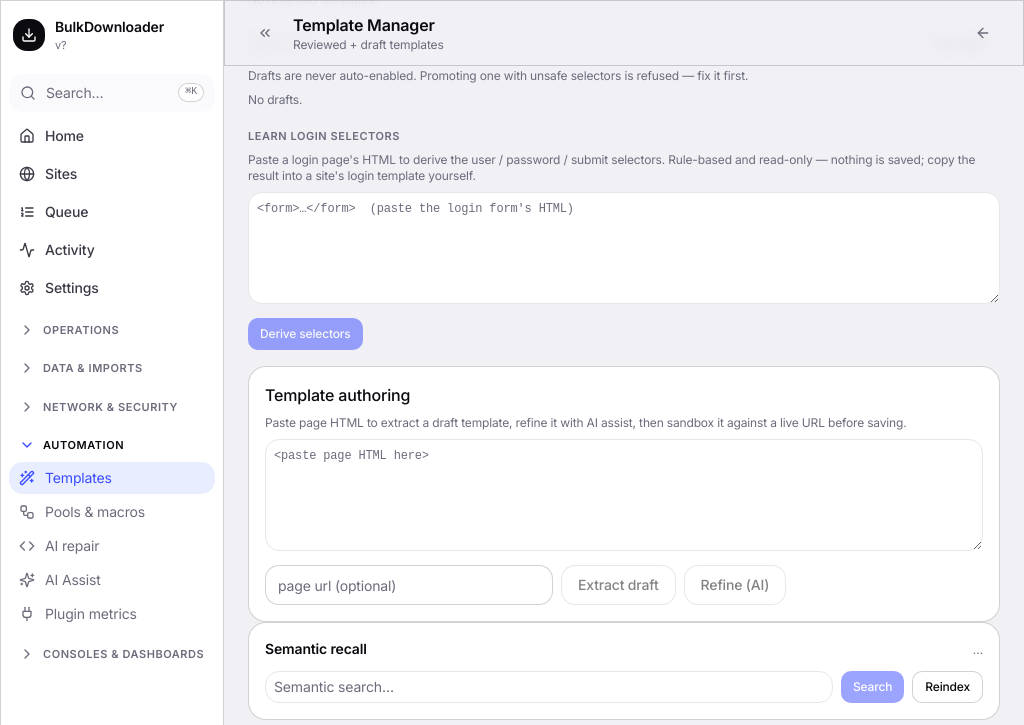
F017 TemplateManager draft create / edit / delete › shows the extracted draft and saves it as a draft
(page scrolled)
Expected: the heading "Drafts (0)" is shown, [248,35,316,52]
Type "<a class=\"dl\" href=\"/dl/x_1080.mp4\">x</a>" into the text box labelled "page HTML".
click(624, 495); type("<a class=\"dl\" href=\"/dl/x_1080.mp4\">x</a>")  # box [265,439,983,551]
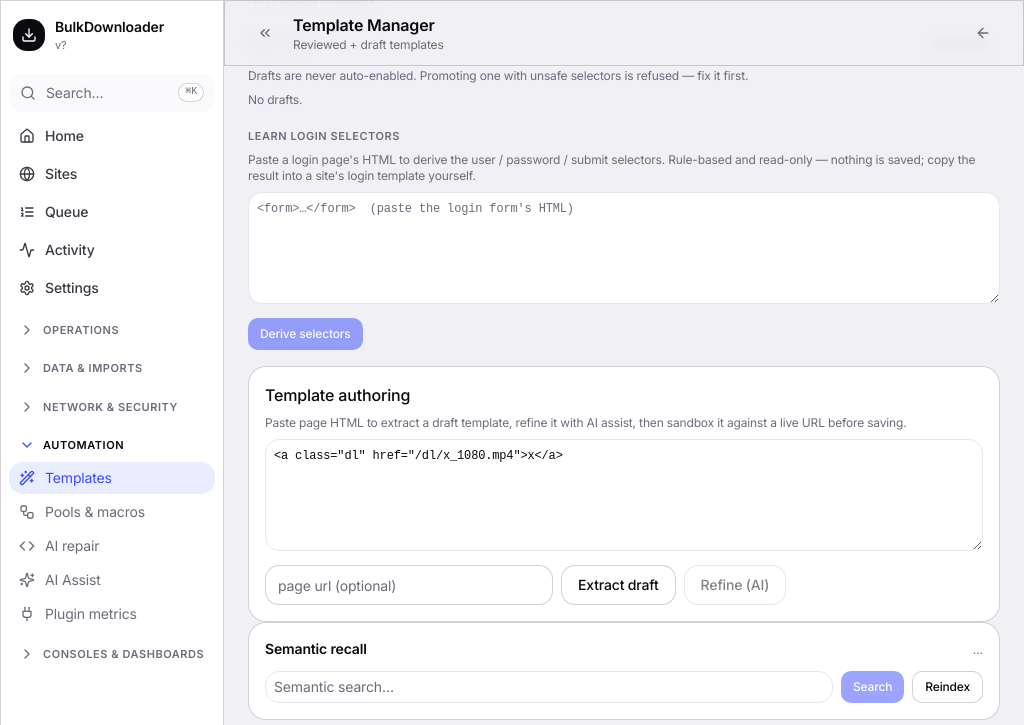
Type "https://test.example.com/g" into the field labelled "page url".
click(409, 585); type("https://test.example.com/g")  # box [265,565,553,605]
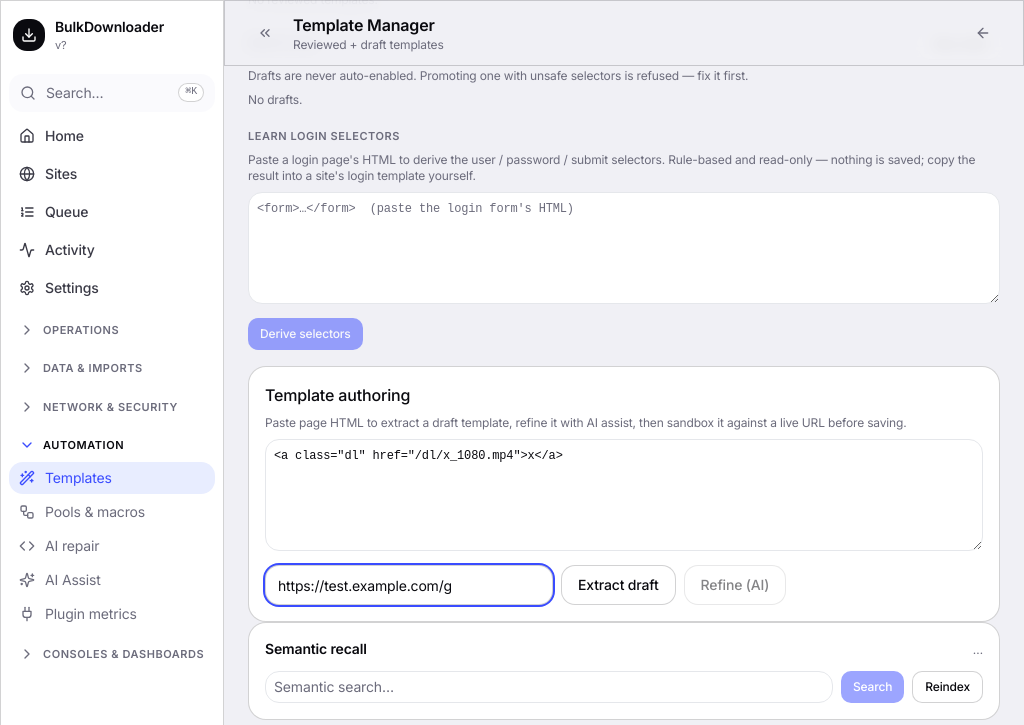
Click the button "Extract draft".
click(618, 585)  # box [561,565,676,605]
(page scrolled)
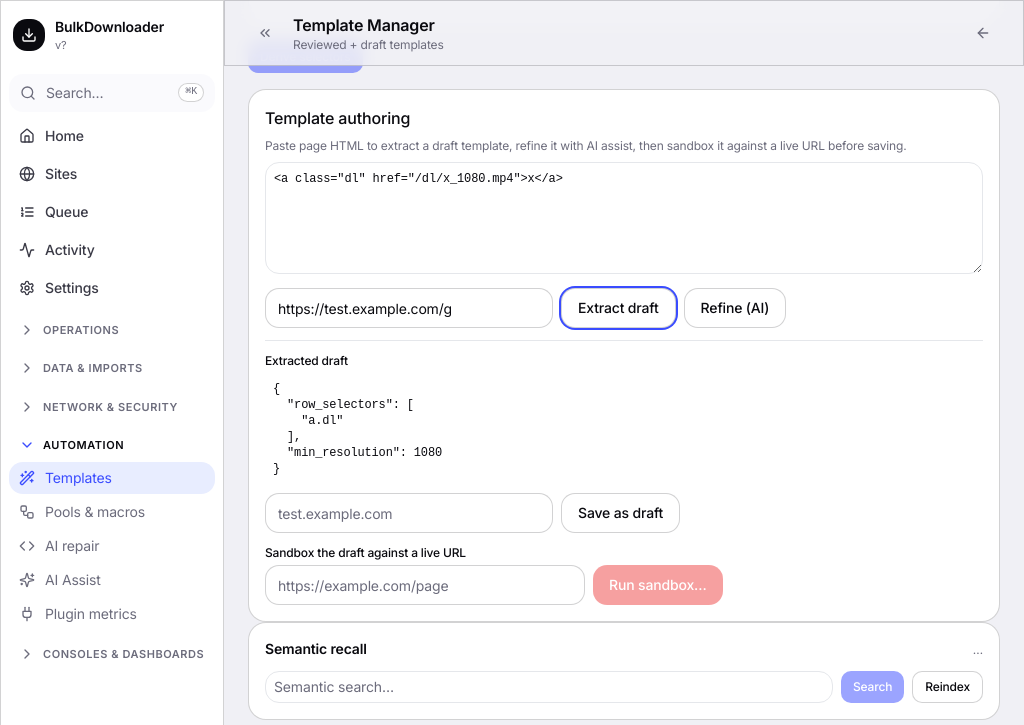
Now the text named "extracted draft" shows "a.dl", box [273,382,442,476]
Now the text named "extracted draft" shows "1080", box [273,382,442,476]
Click the button "Save as draft".
click(621, 513)  # box [561,493,680,533]
(page scrolled)
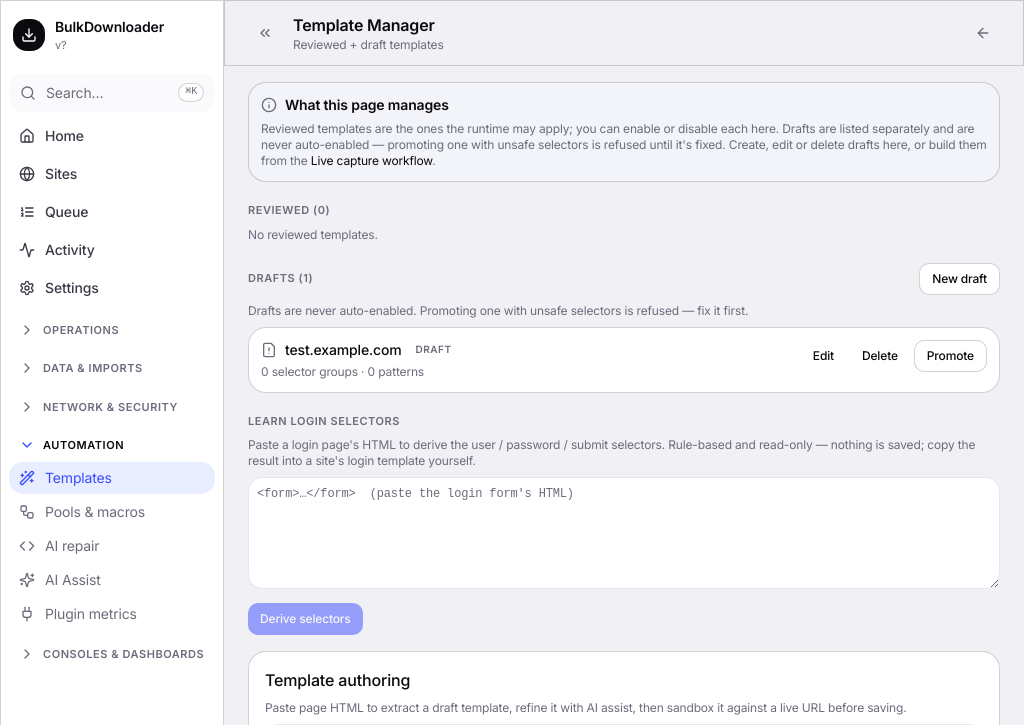
Now the heading "Drafts (1)" is shown, box [248,270,313,287]
